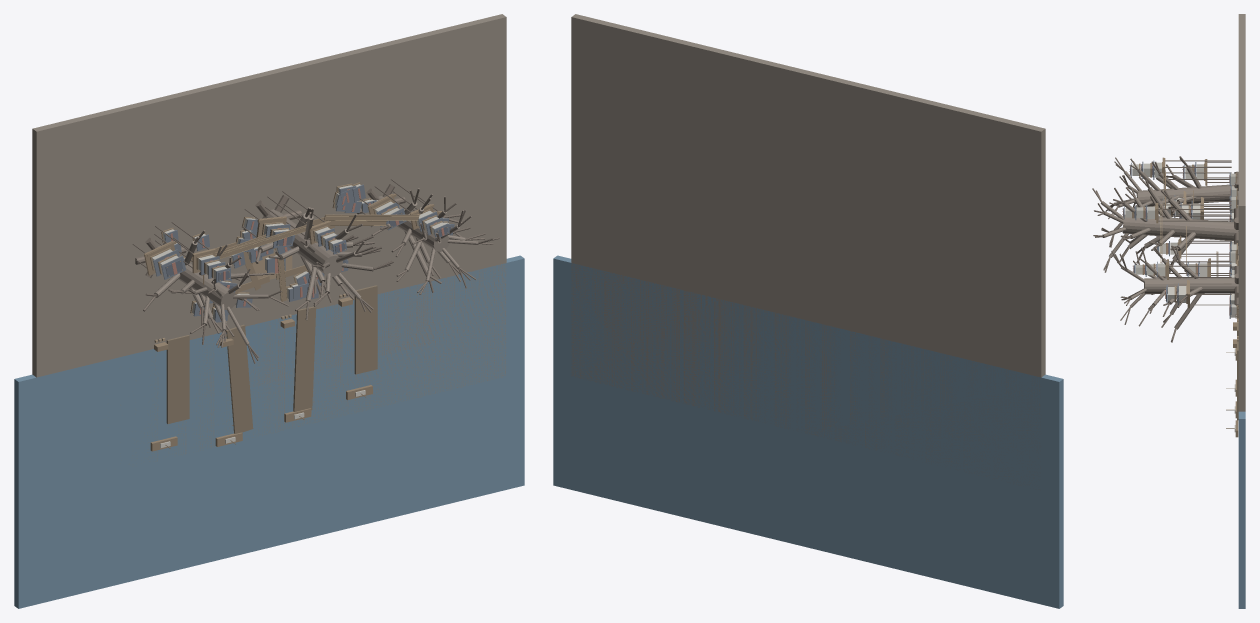
The model's file is Yumizen_v1.glb.
The picture shows the model from 3 angles, left to right: view 1: azimuth 30°, elevation 25°; view 2: azimuth 150°, elevation 25°; view 3: azimuth 270°, elevation 25°; orthographic projection. The views are drawn at different scales.
Parts seen in each view (by area): view 1: Ground_Main, Water_Plane, Lower_Shore, Pier_0, Pier_1, Pier_2, Pier_3, TreeB_trunk, TreeA_trunk; view 2: Ground_Main, Water_Plane; view 3: Ground_Main, TreeB_trunk, Water_Plane, TreeC_trunk, TreeA_trunk.
Boxes of the visible parts, box(x1,y1,x2,y2) form: Ground_Main: box(32, 14, 506, 461); Water_Plane: box(14, 255, 524, 608); Lower_Shore: box(109, 194, 434, 400); Pier_0: box(166, 335, 189, 423); Pier_1: box(226, 324, 253, 433); Pier_2: box(293, 306, 316, 411); Pier_3: box(354, 285, 377, 374); TreeB_trunk: box(262, 209, 343, 277); TreeA_trunk: box(158, 246, 236, 309); Ground_Main: box(571, 14, 1045, 485); Water_Plane: box(553, 255, 1063, 608); Ground_Main: box(1238, 14, 1245, 411); TreeB_trunk: box(1122, 215, 1238, 240); Water_Plane: box(1238, 411, 1245, 608); TreeC_trunk: box(1144, 277, 1238, 294); TreeA_trunk: box(1136, 184, 1238, 206).
Bounding box in the file's own units: 280 × 250 × 87.94.
